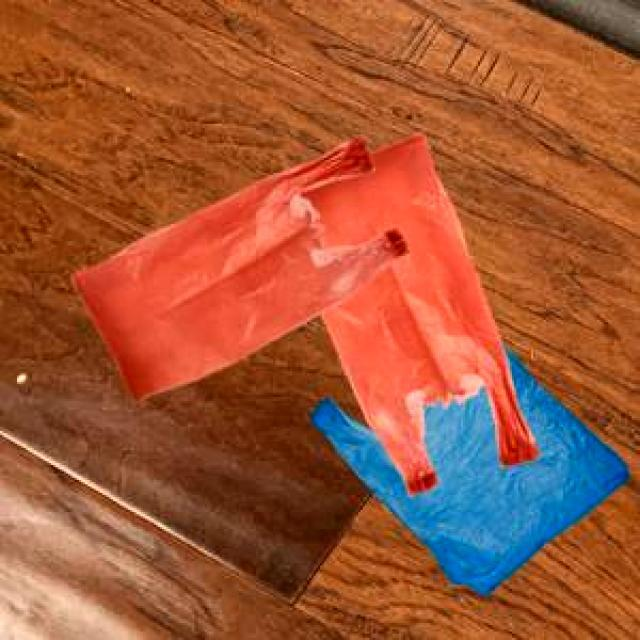Plastic_Bag: (70, 133, 407, 398), (296, 131, 536, 494), (308, 342, 626, 592)
